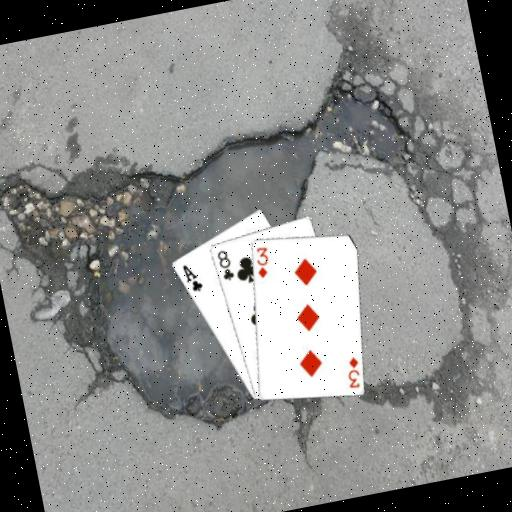3D: (250, 243, 274, 281), (340, 353, 364, 391)
8C: (213, 246, 236, 284)
AC: (179, 258, 206, 295)
